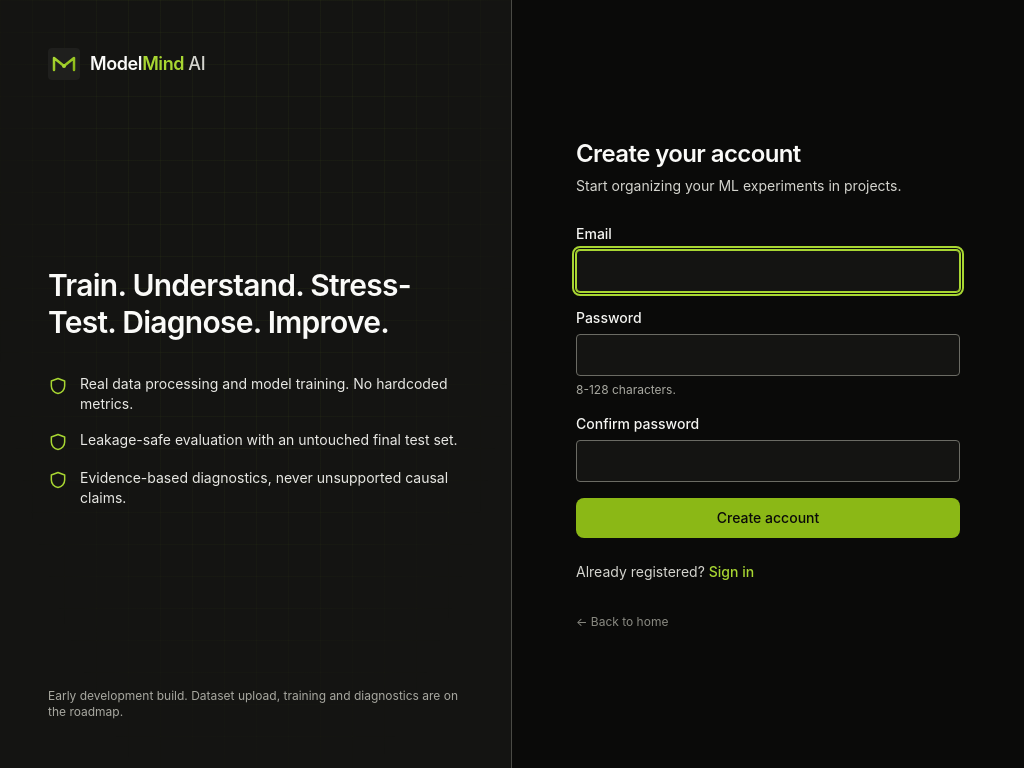
Test: registration › checks that passwords match
Type "new@example.com" into the field labelled "Email" at (768, 271), box [576,250,960,292]
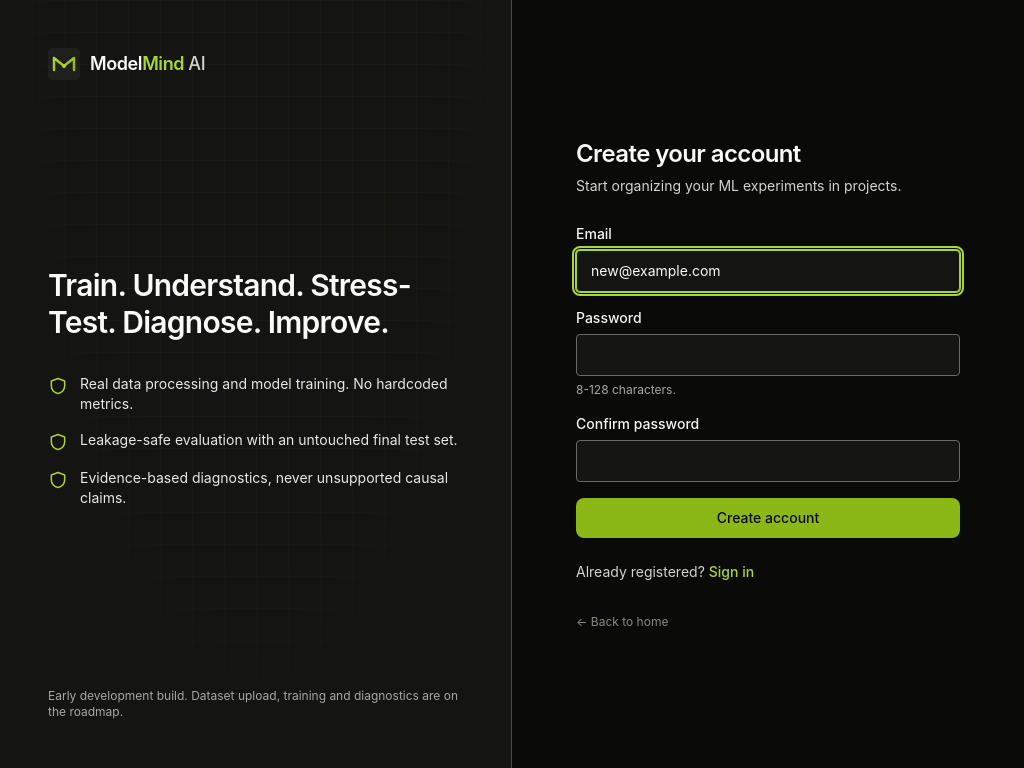
Type "long-enough-pw" into the password field labelled "Password" at (768, 355), box [576,334,960,376]
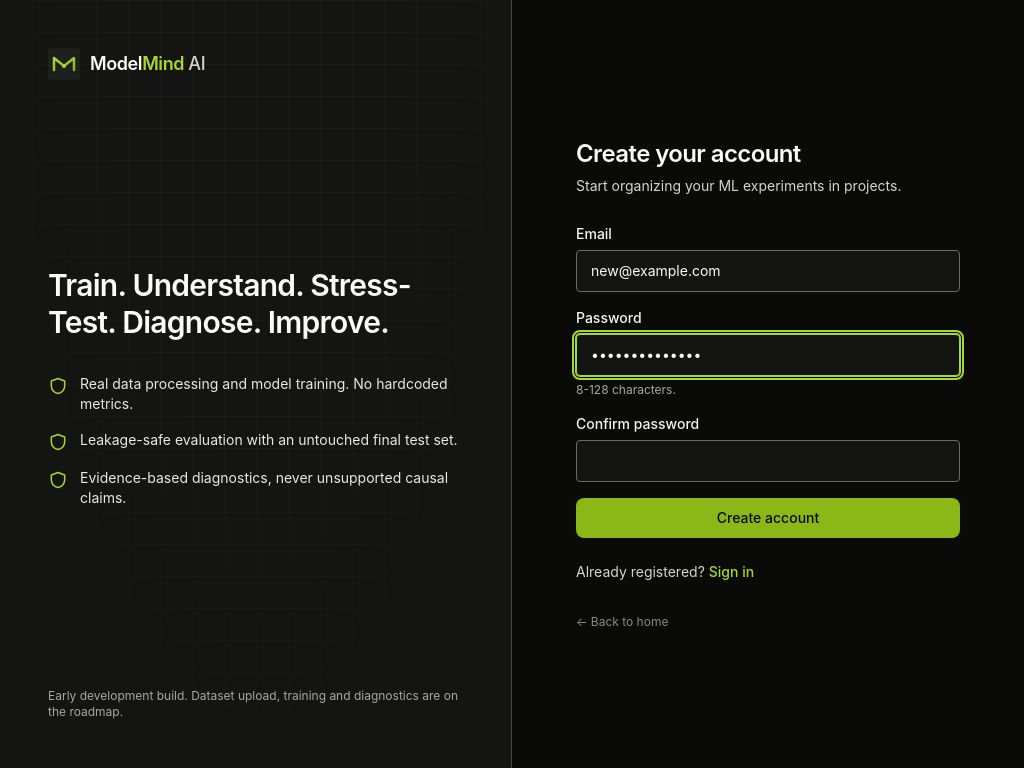
Type "different-pw-1" into the password field labelled "Confirm password" at (768, 461), box [576,440,960,482]
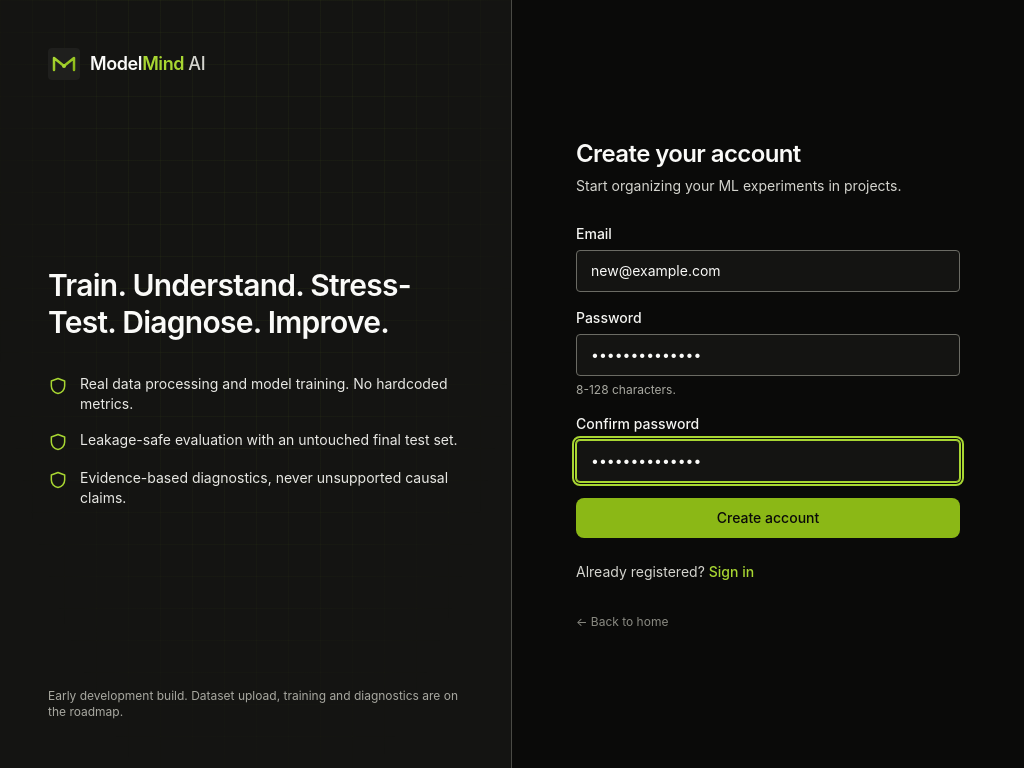
Click the button "Create account" at (768, 518), box [576,498,960,538]
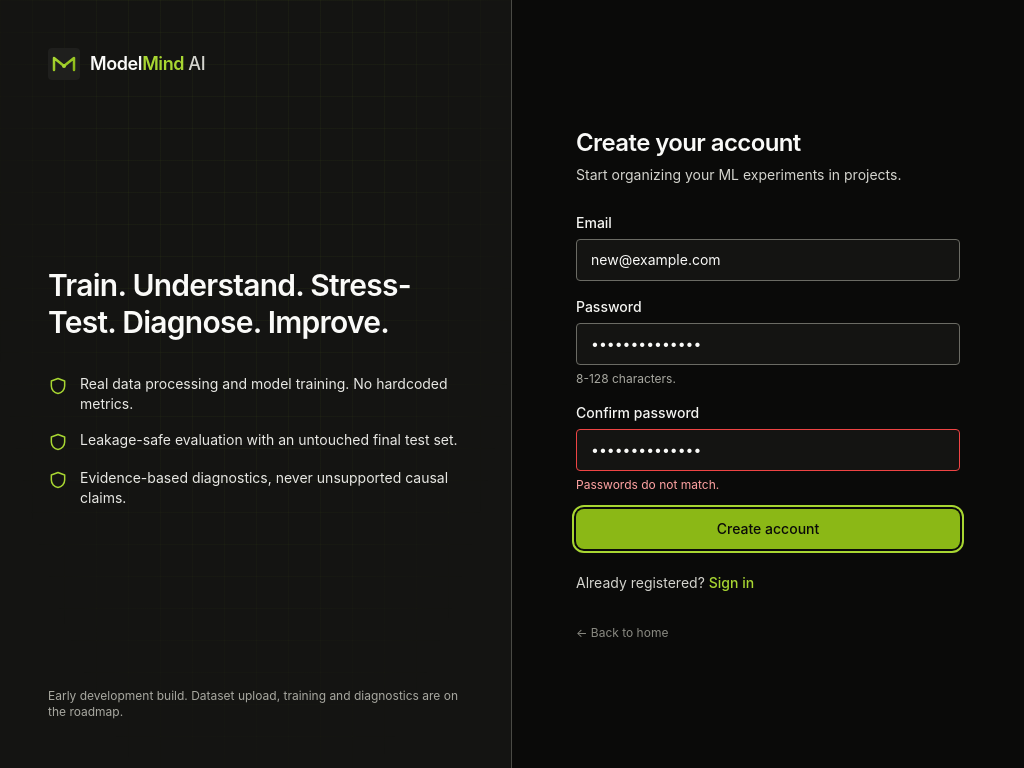
Now the text "Passwords do not match." is shown, box [576,477,719,492]
